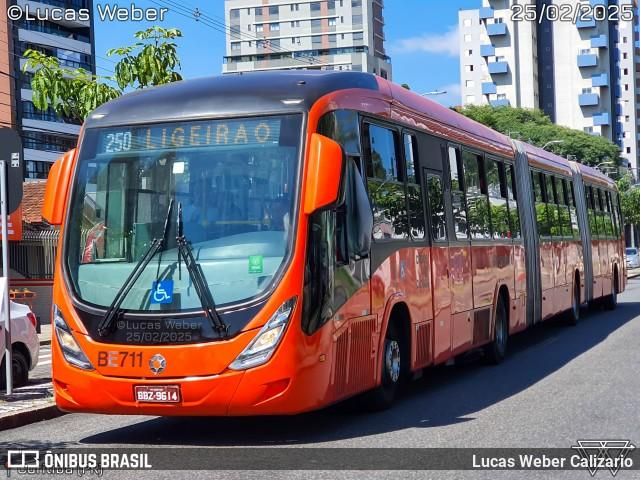LIGEIRAO: (140, 119, 278, 152)
